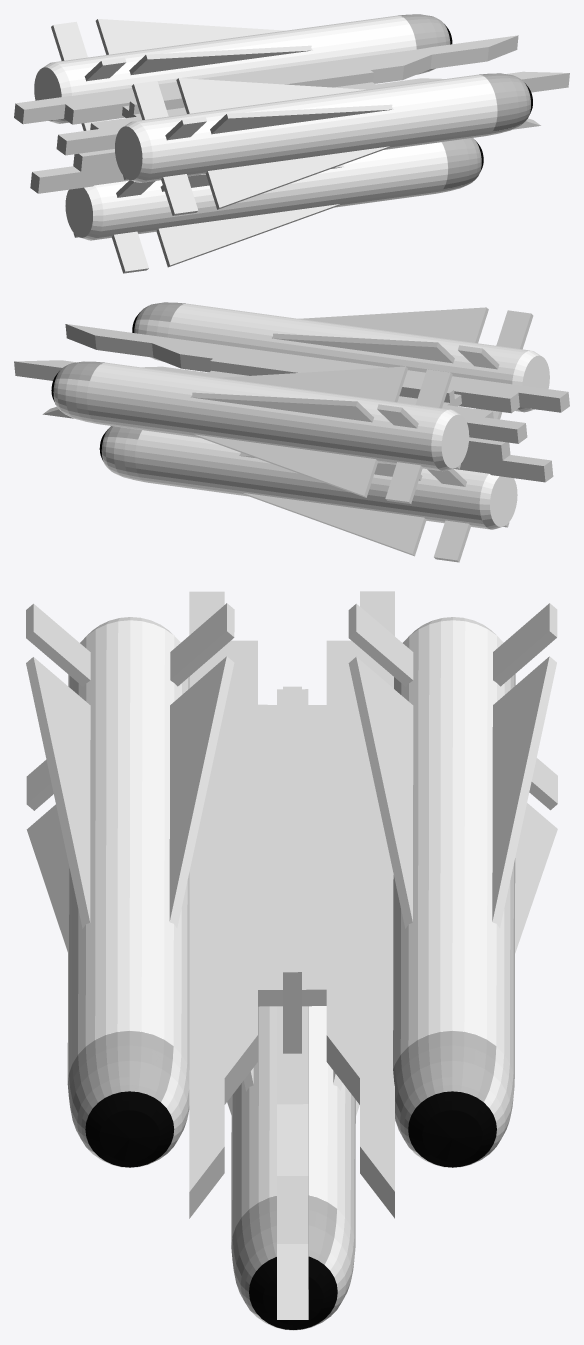
File: a10cagm6541.glb
3 renders of one model, top to bottom at view 1: azimuth 30°, elevation 25°; view 2: azimuth 150°, elevation 25°; view 3: azimuth 270°, elevation 25°, orthographic. The views are drawn at different scales.
Parts seen in each view (by area): view 1: 立方体.010, 立方体.012, 立方体.011, 立方体.009; view 2: 立方体.011, 立方体.012, 立方体.010, 立方体.009; view 3: 立方体.009, 立方体.011, 立方体.010, 立方体.012.
Boxes of the visible parts, x1,y1,x2,y2 form: 立方体.010: (115,73,532,215); 立方体.012: (65,138,483,273); 立方体.011: (34,14,452,130); 立方体.009: (14,35,569,193); 立方体.011: (51,361,469,503); 立方体.012: (99,426,517,562); 立方体.010: (132,302,549,419); 立方体.009: (14,324,569,482); 立方体.009: (189,591,394,1319); 立方体.011: (348,603,557,1167); 立方体.010: (26,603,234,1167); 立方体.012: (227,1006,359,1330).
Size of the model in its own units: 3.2 by 1.18 by 1.45.
6 materials, 1 textured.
